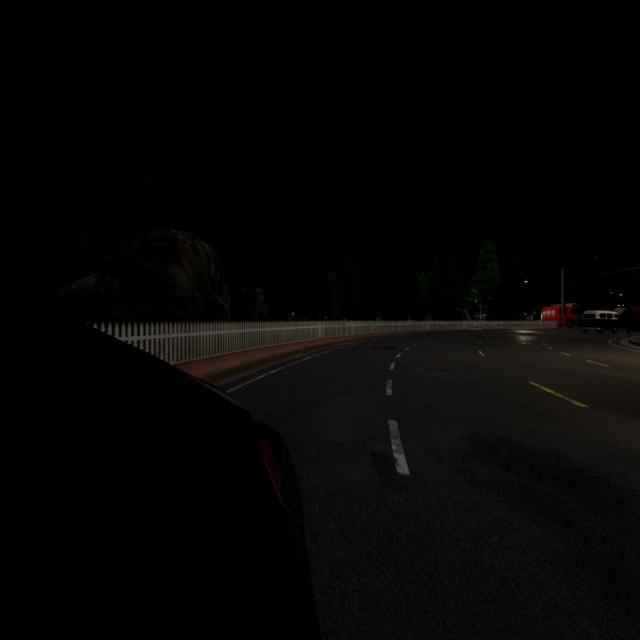Vehicle: (0, 291, 316, 640), (542, 303, 578, 328), (581, 311, 620, 334)
